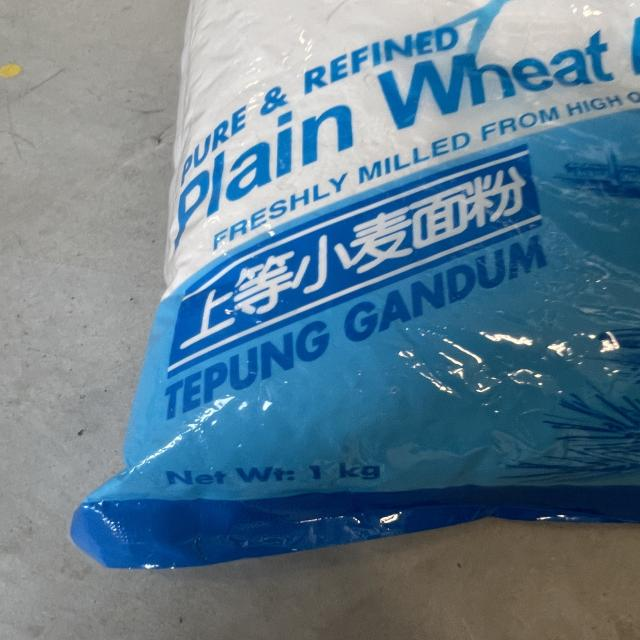object_name: (183, 3, 636, 521)
